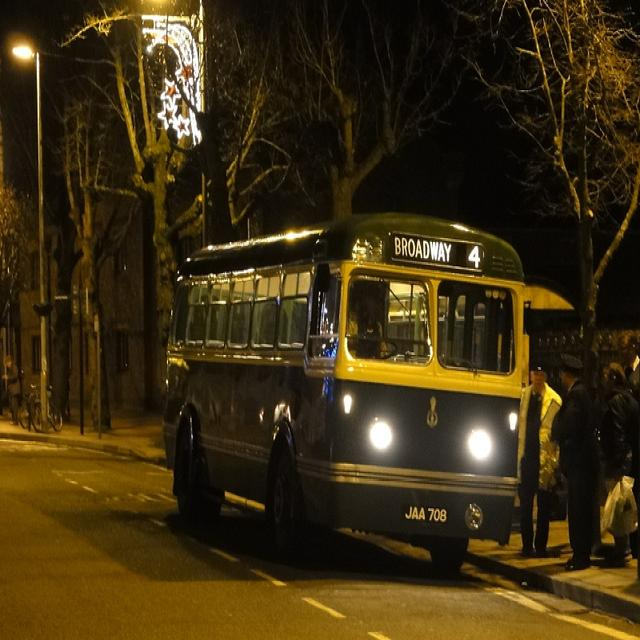Bus: (146, 218, 524, 577)
People: (501, 351, 563, 573), (546, 362, 604, 569), (601, 339, 640, 585)
